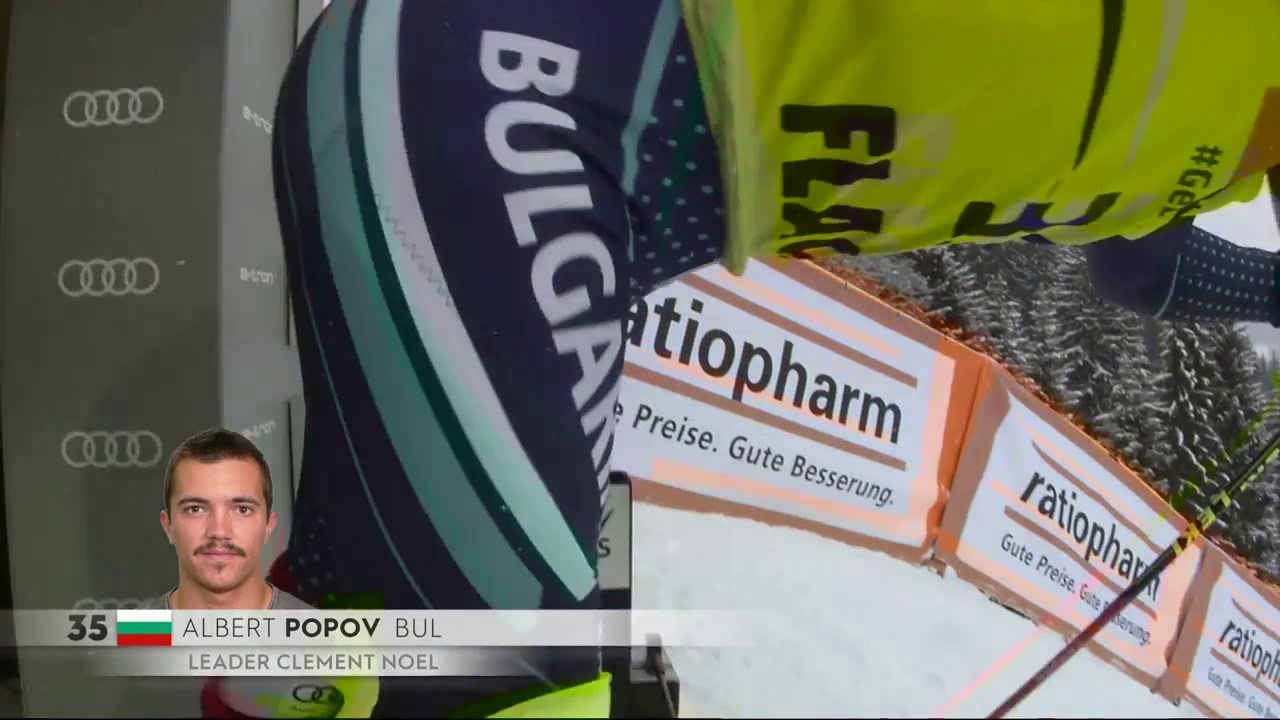audi: (52, 256, 163, 307), (57, 85, 168, 135), (56, 430, 168, 477)
ratiopharm: (603, 278, 939, 480), (991, 431, 1166, 618), (1202, 608, 1279, 711)
